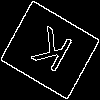K: (25, 25, 75, 83)
